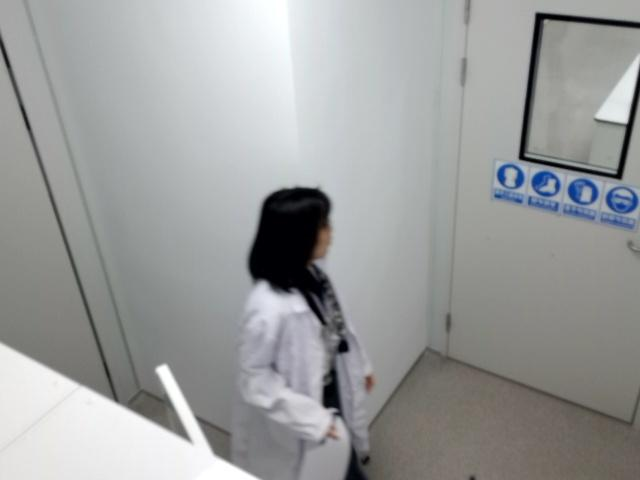Lab_coat: (231, 188, 374, 479)
